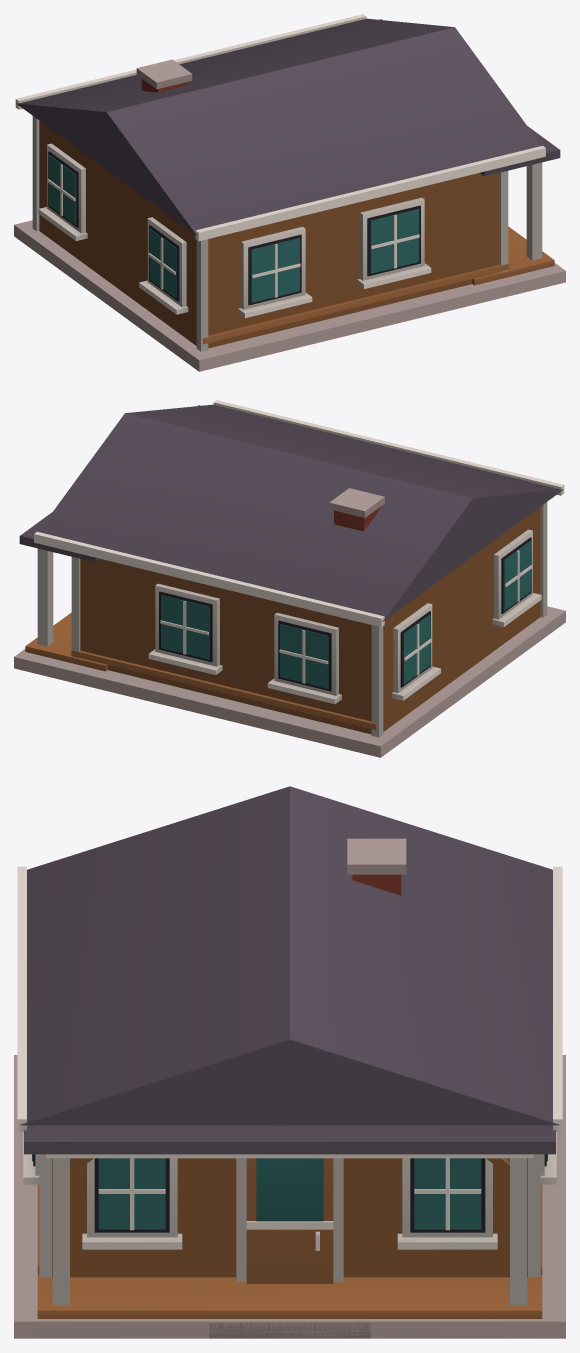
Rendered from bld.park-lodge.lod1.glb.
3 views of the same model, one above another, from view 1: azimuth 30°, elevation 25°; view 2: azimuth 150°, elevation 25°; view 3: azimuth 270°, elevation 25° (orthographic). The views are drawn at different scales.
Parts seen in each view (by area): view 1: body, roof; view 2: body, roof; view 3: roof, body.
Part boxes in pixels (x1,y1,x2,y2): body: (14, 14, 565, 371); roof: (16, 18, 560, 235); body: (14, 400, 565, 757); roof: (19, 404, 563, 621); roof: (20, 786, 559, 1154); body: (14, 838, 565, 1338).
Size of the model in its own units: 8 by 4 by 7.
